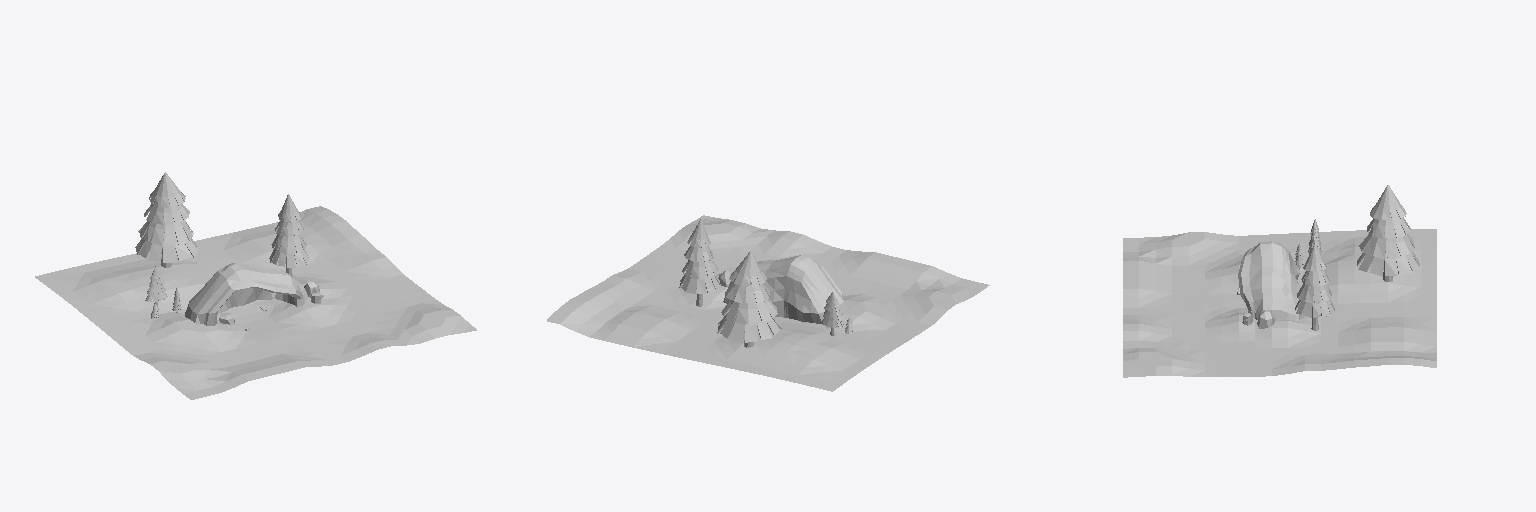
The model's file is SnowEnv.obj.
The picture shows the model from 3 angles: view 1: azimuth 30°, elevation 25°; view 2: azimuth 150°, elevation 25°; view 3: azimuth 270°, elevation 25°; orthographic projection.
Visible parts, largest first — view 1: Env_GRP Models SnowScene Snow, Env_GRP Models SnowScene RockCave, Env_GRP Models SnowScene Tree5, Env_GRP Models SnowScene Tree3; view 2: Env_GRP Models SnowScene Snow, Env_GRP Models SnowScene RockCave, Env_GRP Models SnowScene Tree5, Env_GRP Models SnowScene Tree3; view 3: Env_GRP Models SnowScene Snow, Env_GRP Models SnowScene RockCave, Env_GRP Models SnowScene Tree5, Env_GRP Models SnowScene Tree3.
Part boxes in pixels (bbox=[...]): Env_GRP Models SnowScene Snow: bbox=[35, 206, 476, 399]; Env_GRP Models SnowScene RockCave: bbox=[185, 263, 308, 325]; Env_GRP Models SnowScene Tree5: bbox=[135, 172, 197, 267]; Env_GRP Models SnowScene Tree3: bbox=[269, 194, 308, 276]; Env_GRP Models SnowScene Snow: bbox=[547, 215, 989, 391]; Env_GRP Models SnowScene RockCave: bbox=[723, 255, 847, 323]; Env_GRP Models SnowScene Tree5: bbox=[717, 251, 781, 347]; Env_GRP Models SnowScene Tree3: bbox=[679, 219, 720, 306]; Env_GRP Models SnowScene Snow: bbox=[1123, 229, 1436, 377]; Env_GRP Models SnowScene RockCave: bbox=[1238, 241, 1304, 320]; Env_GRP Models SnowScene Tree5: bbox=[1357, 185, 1419, 281]; Env_GRP Models SnowScene Tree3: bbox=[1295, 243, 1334, 330].
Size of the model in its own units: 54.39 by 19.54 by 51.67.